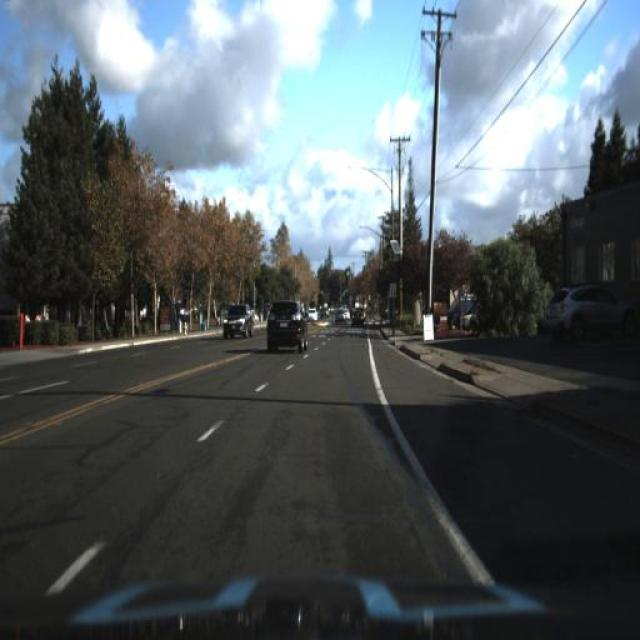car: (534, 276, 622, 345), (263, 287, 316, 359), (220, 294, 256, 350), (349, 308, 367, 334), (303, 306, 321, 324), (350, 308, 366, 328)
